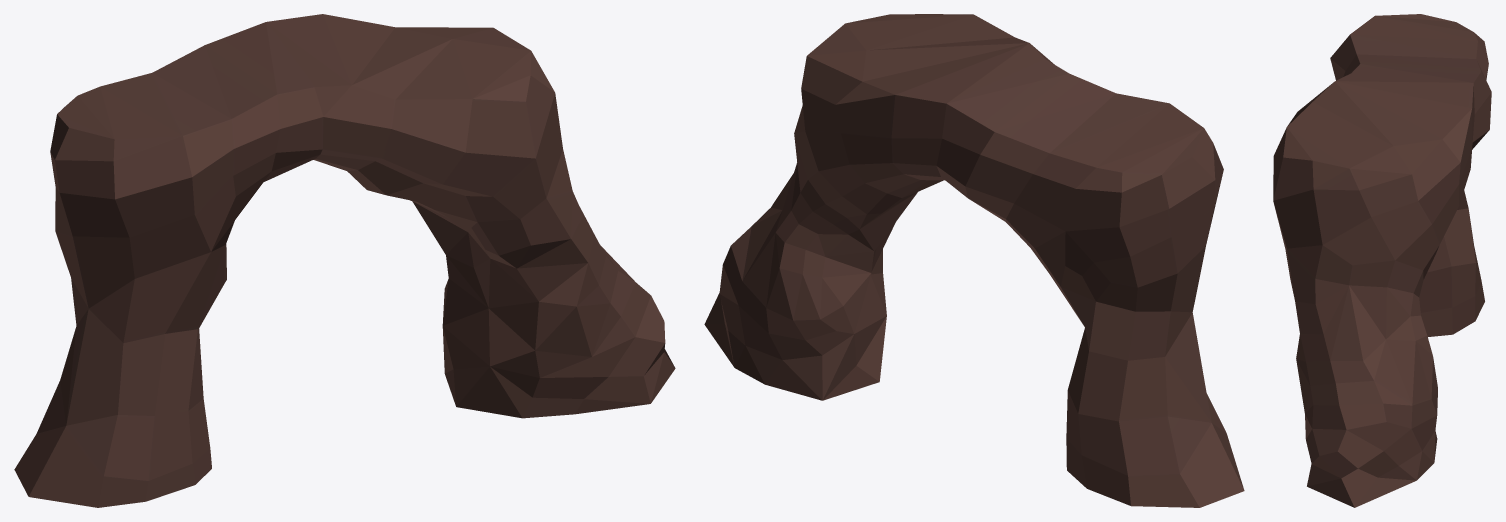
File: Pillar-C11.fbx
The picture shows the model from 3 angles, left to right: view 1: azimuth 30°, elevation 25°; view 2: azimuth 150°, elevation 25°; view 3: azimuth 270°, elevation 25°; orthographic projection. The views are drawn at different scales.
Visible parts, largest first — view 1: Pillar-C11; view 2: Pillar-C11; view 3: Pillar-C11.
Part boxes in pixels (x1,y1,x2,y2): Pillar-C11: (14,14,675,507); Pillar-C11: (704,14,1244,507); Pillar-C11: (1273,14,1491,507).
Size of the model in its own units: 487 by 190 by 287.
